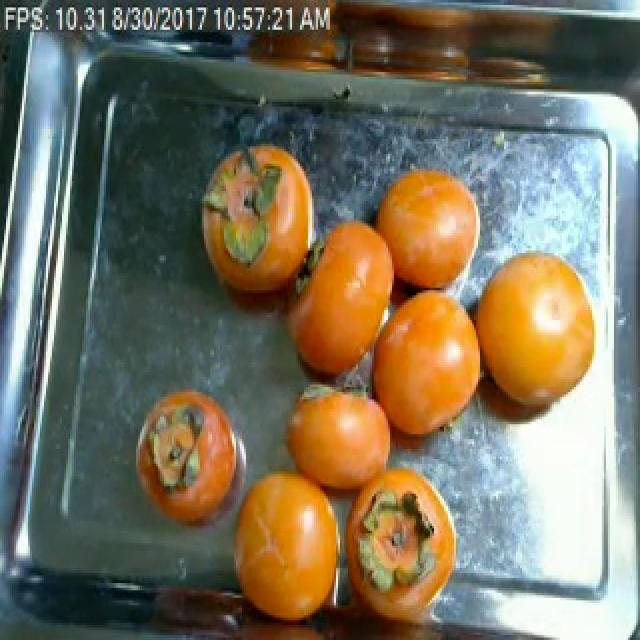Fruit: (464, 233, 612, 432), (356, 275, 494, 454), (216, 452, 340, 638), (360, 152, 496, 312), (356, 452, 470, 620), (208, 129, 316, 295), (124, 377, 246, 519), (272, 372, 398, 509)
